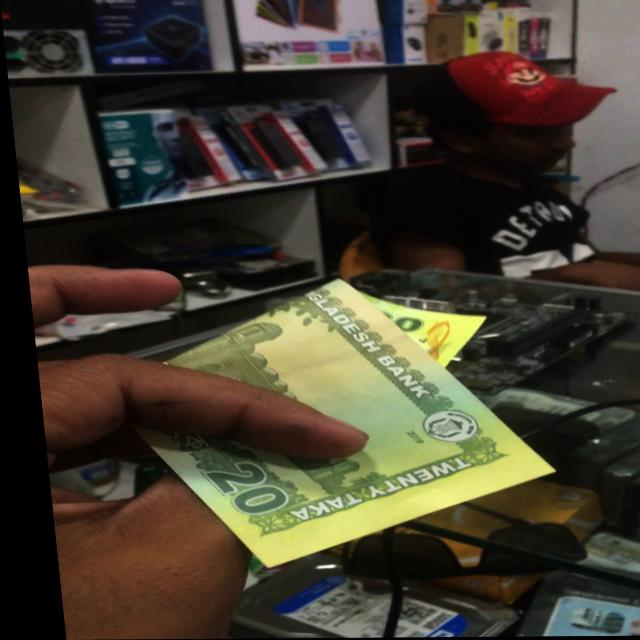Taka: (121, 273, 537, 570)
